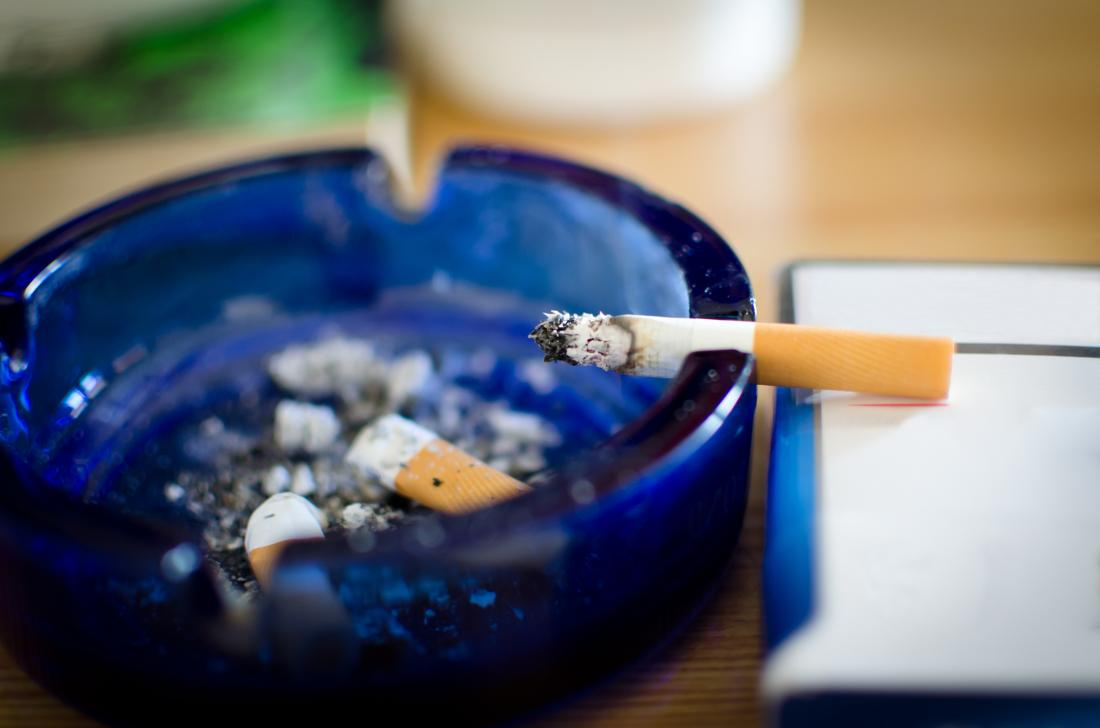cigarette: (526, 296, 965, 422)
